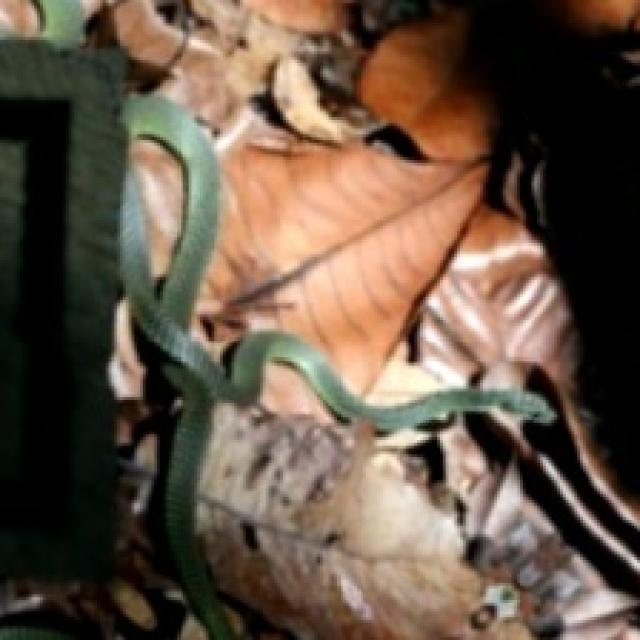paradise tree snake: (0, 0, 637, 637), (120, 94, 546, 637), (0, 97, 77, 529), (129, 129, 191, 277)
